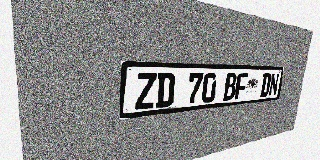0: (201, 73, 217, 103)
7: (186, 73, 204, 105)
B: (223, 73, 238, 101)
D: (155, 73, 176, 108), (260, 73, 272, 97)
F: (234, 73, 248, 100)
N: (268, 73, 279, 96)
Z: (135, 73, 157, 110)
